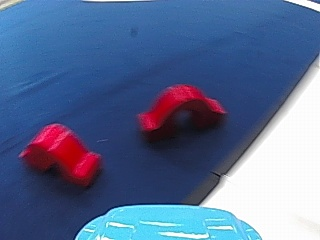bridge: (15, 120, 108, 194), (131, 81, 231, 139)
